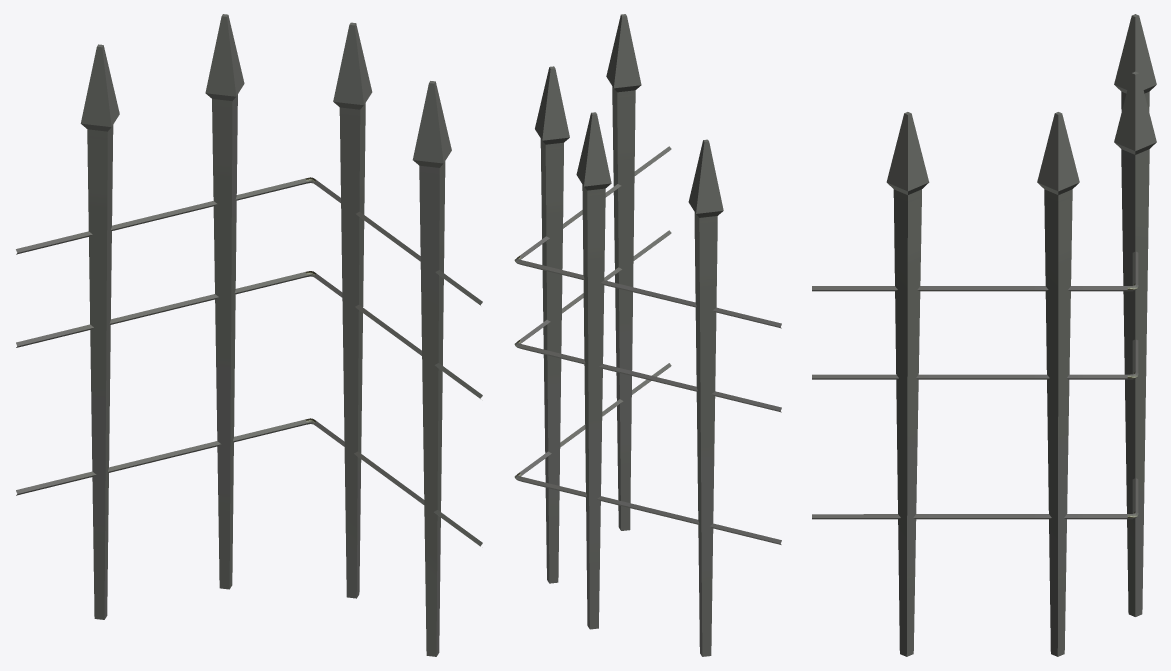
Rendered from EA_Exterior_Fence_Element_Clean_Corner_02a.gltf.
3 renders of one model, left to right at view 1: azimuth 30°, elevation 25°; view 2: azimuth 150°, elevation 25°; view 3: azimuth 270°, elevation 25°, orthographic. The views are drawn at different scales.
Parts seen in each view (by area): view 1: EA_Exterior_Fence_Element_Clean_Corner_02a; view 2: EA_Exterior_Fence_Element_Clean_Corner_02a; view 3: EA_Exterior_Fence_Element_Clean_Corner_02a.
Boxes of the visible parts, x1,y1,x2,y2 form: EA_Exterior_Fence_Element_Clean_Corner_02a: (16,14,482,656); EA_Exterior_Fence_Element_Clean_Corner_02a: (514,14,781,656); EA_Exterior_Fence_Element_Clean_Corner_02a: (812,14,1156,656).
Size of the model in its own units: 2.27 by 3.92 by 2.26.
1 material, 1 textured.
